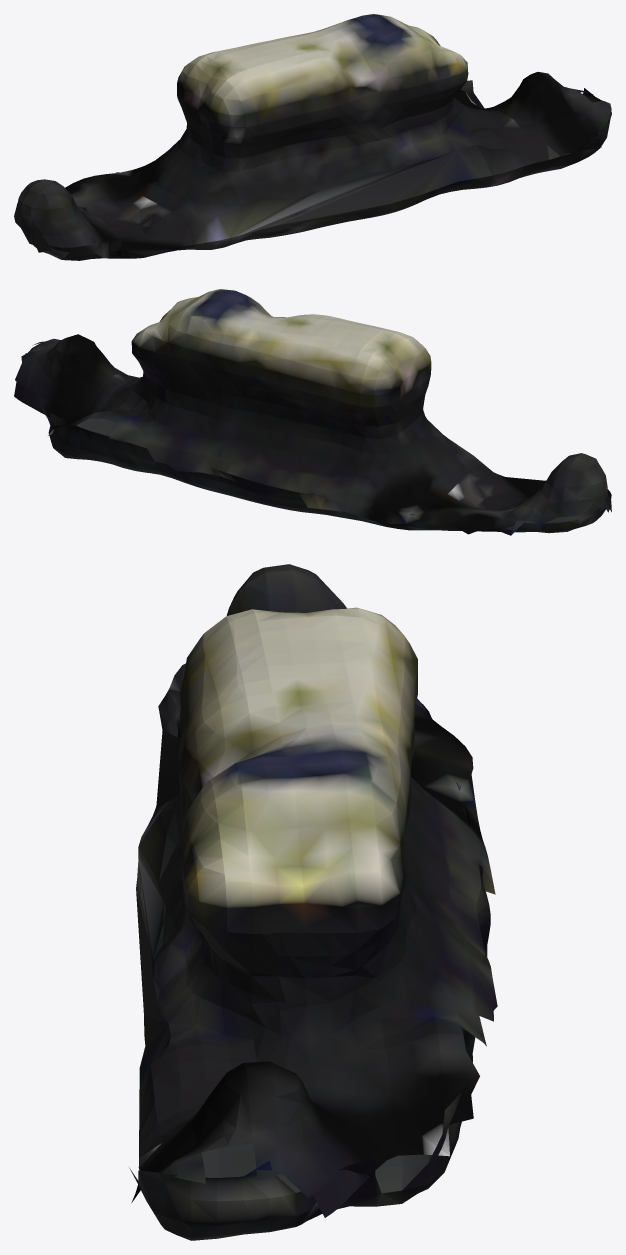
Rendered from switch.dae.
3 views of the same model, one above another, from view 1: azimuth 30°, elevation 25°; view 2: azimuth 150°, elevation 25°; view 3: azimuth 270°, elevation 25° (orthographic). The views are drawn at different scales.
Parts seen in each view (by area): view 1: node; view 2: node; view 3: node.
Part boxes in pixels (left/top/right/bottom): node: left=14, top=14, right=611, bottom=260; node: left=14, top=289, right=611, bottom=535; node: left=129, top=564, right=497, bottom=1240.
Bounding box in the file's own units: 0.2698 × 0.0736 × 0.0757.
